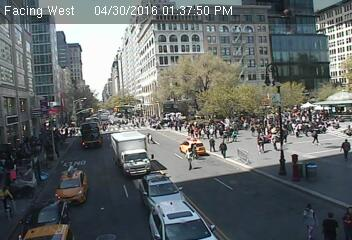neg: (15, 53, 66, 120), (198, 7, 239, 61), (286, 144, 315, 182), (300, 2, 324, 34), (73, 56, 96, 85), (81, 122, 102, 149), (270, 10, 290, 36), (308, 69, 326, 93), (264, 51, 282, 74), (205, 88, 222, 110), (30, 9, 45, 29), (77, 10, 91, 30)
pos: (320, 207, 342, 237), (182, 145, 203, 173), (216, 140, 232, 161), (338, 135, 351, 160), (310, 128, 323, 146), (143, 131, 155, 147), (205, 135, 216, 149), (175, 120, 186, 134)
